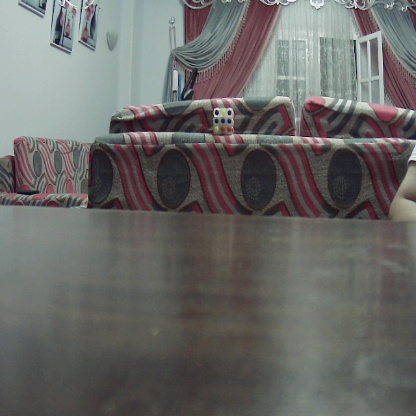Rubix Cube: (210, 107, 234, 136)
